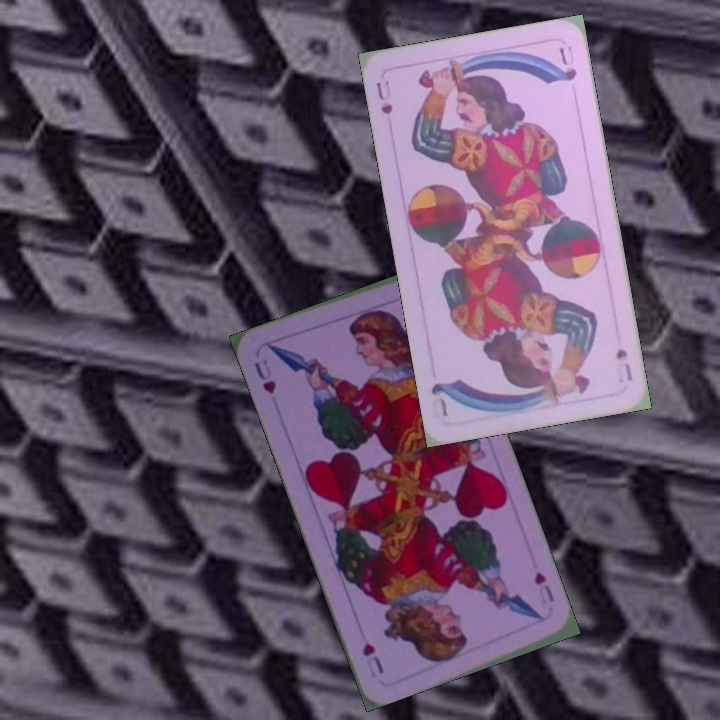HU: (250, 355, 279, 396), (530, 567, 557, 605)
SU: (372, 76, 395, 117), (612, 344, 635, 384)
